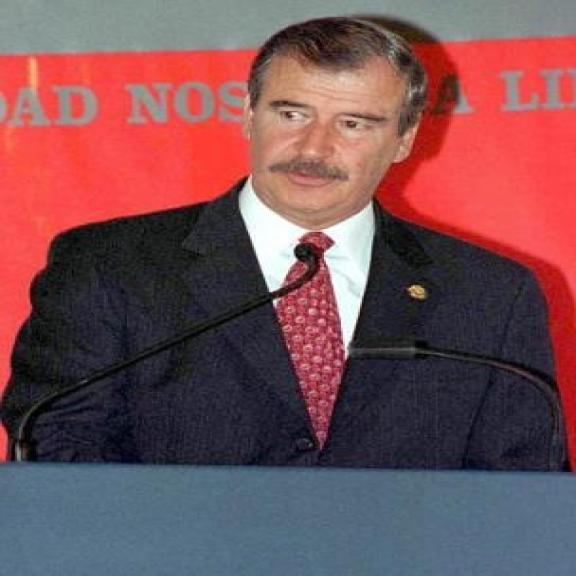face: (243, 57, 429, 223)
